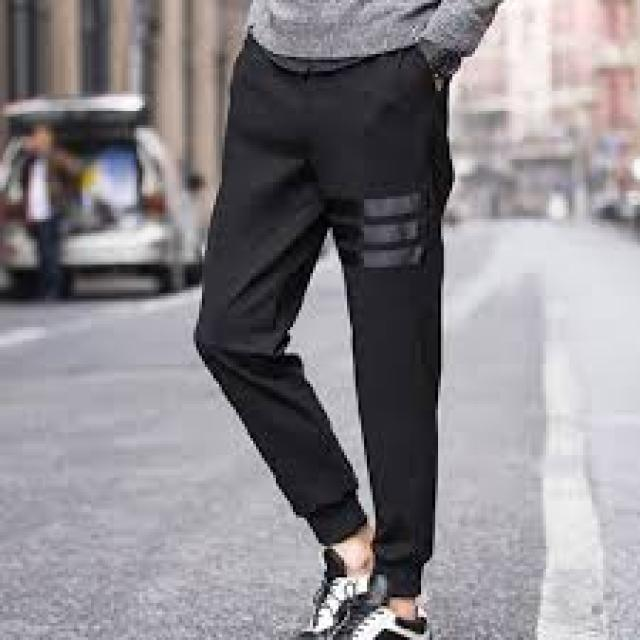pants: (190, 26, 453, 597)
